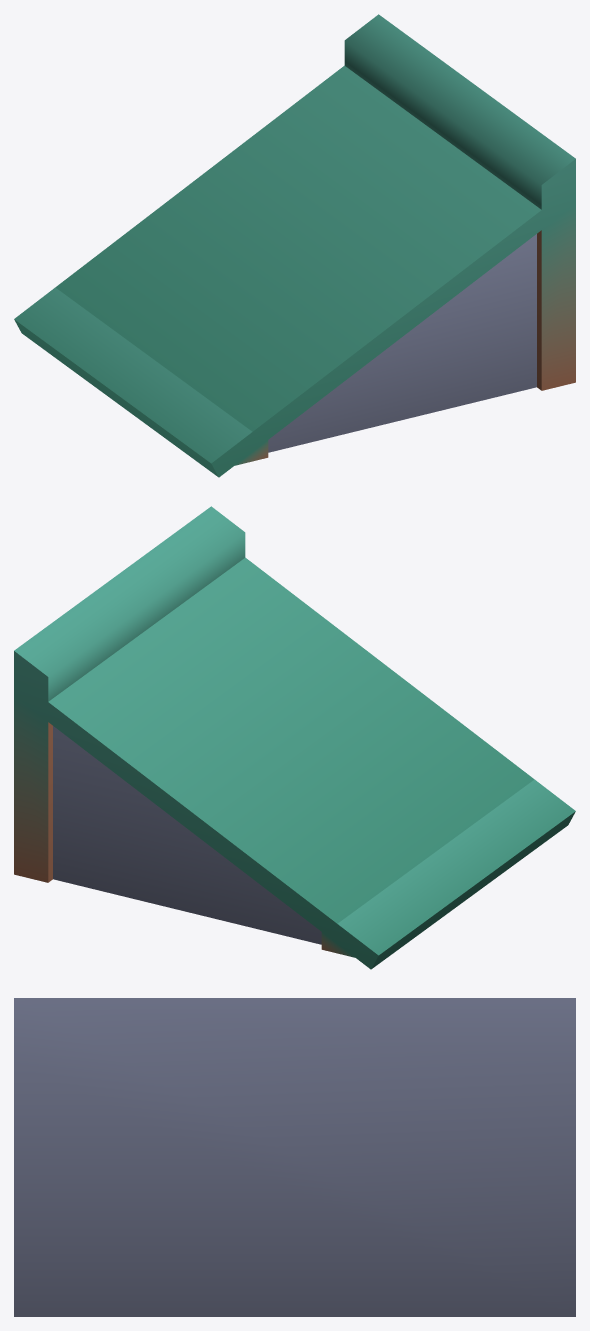
Rendered from town-roof.glb.
3 renders of one model, top to bottom at view 1: azimuth 30°, elevation 25°; view 2: azimuth 150°, elevation 25°; view 3: azimuth 270°, elevation 25°, orthographic. The views are drawn at different scales.
Visible parts, largest first — view 1: town-roof; view 2: town-roof; view 3: town-roof.
Boxes of the visible parts, x1,y1,x2,y2 form: town-roof: (14,14,575,477); town-roof: (14,506,575,969); town-roof: (14,998,575,1316).
Bounding box in the file's own units: 1.07 × 0.6483 × 1.
